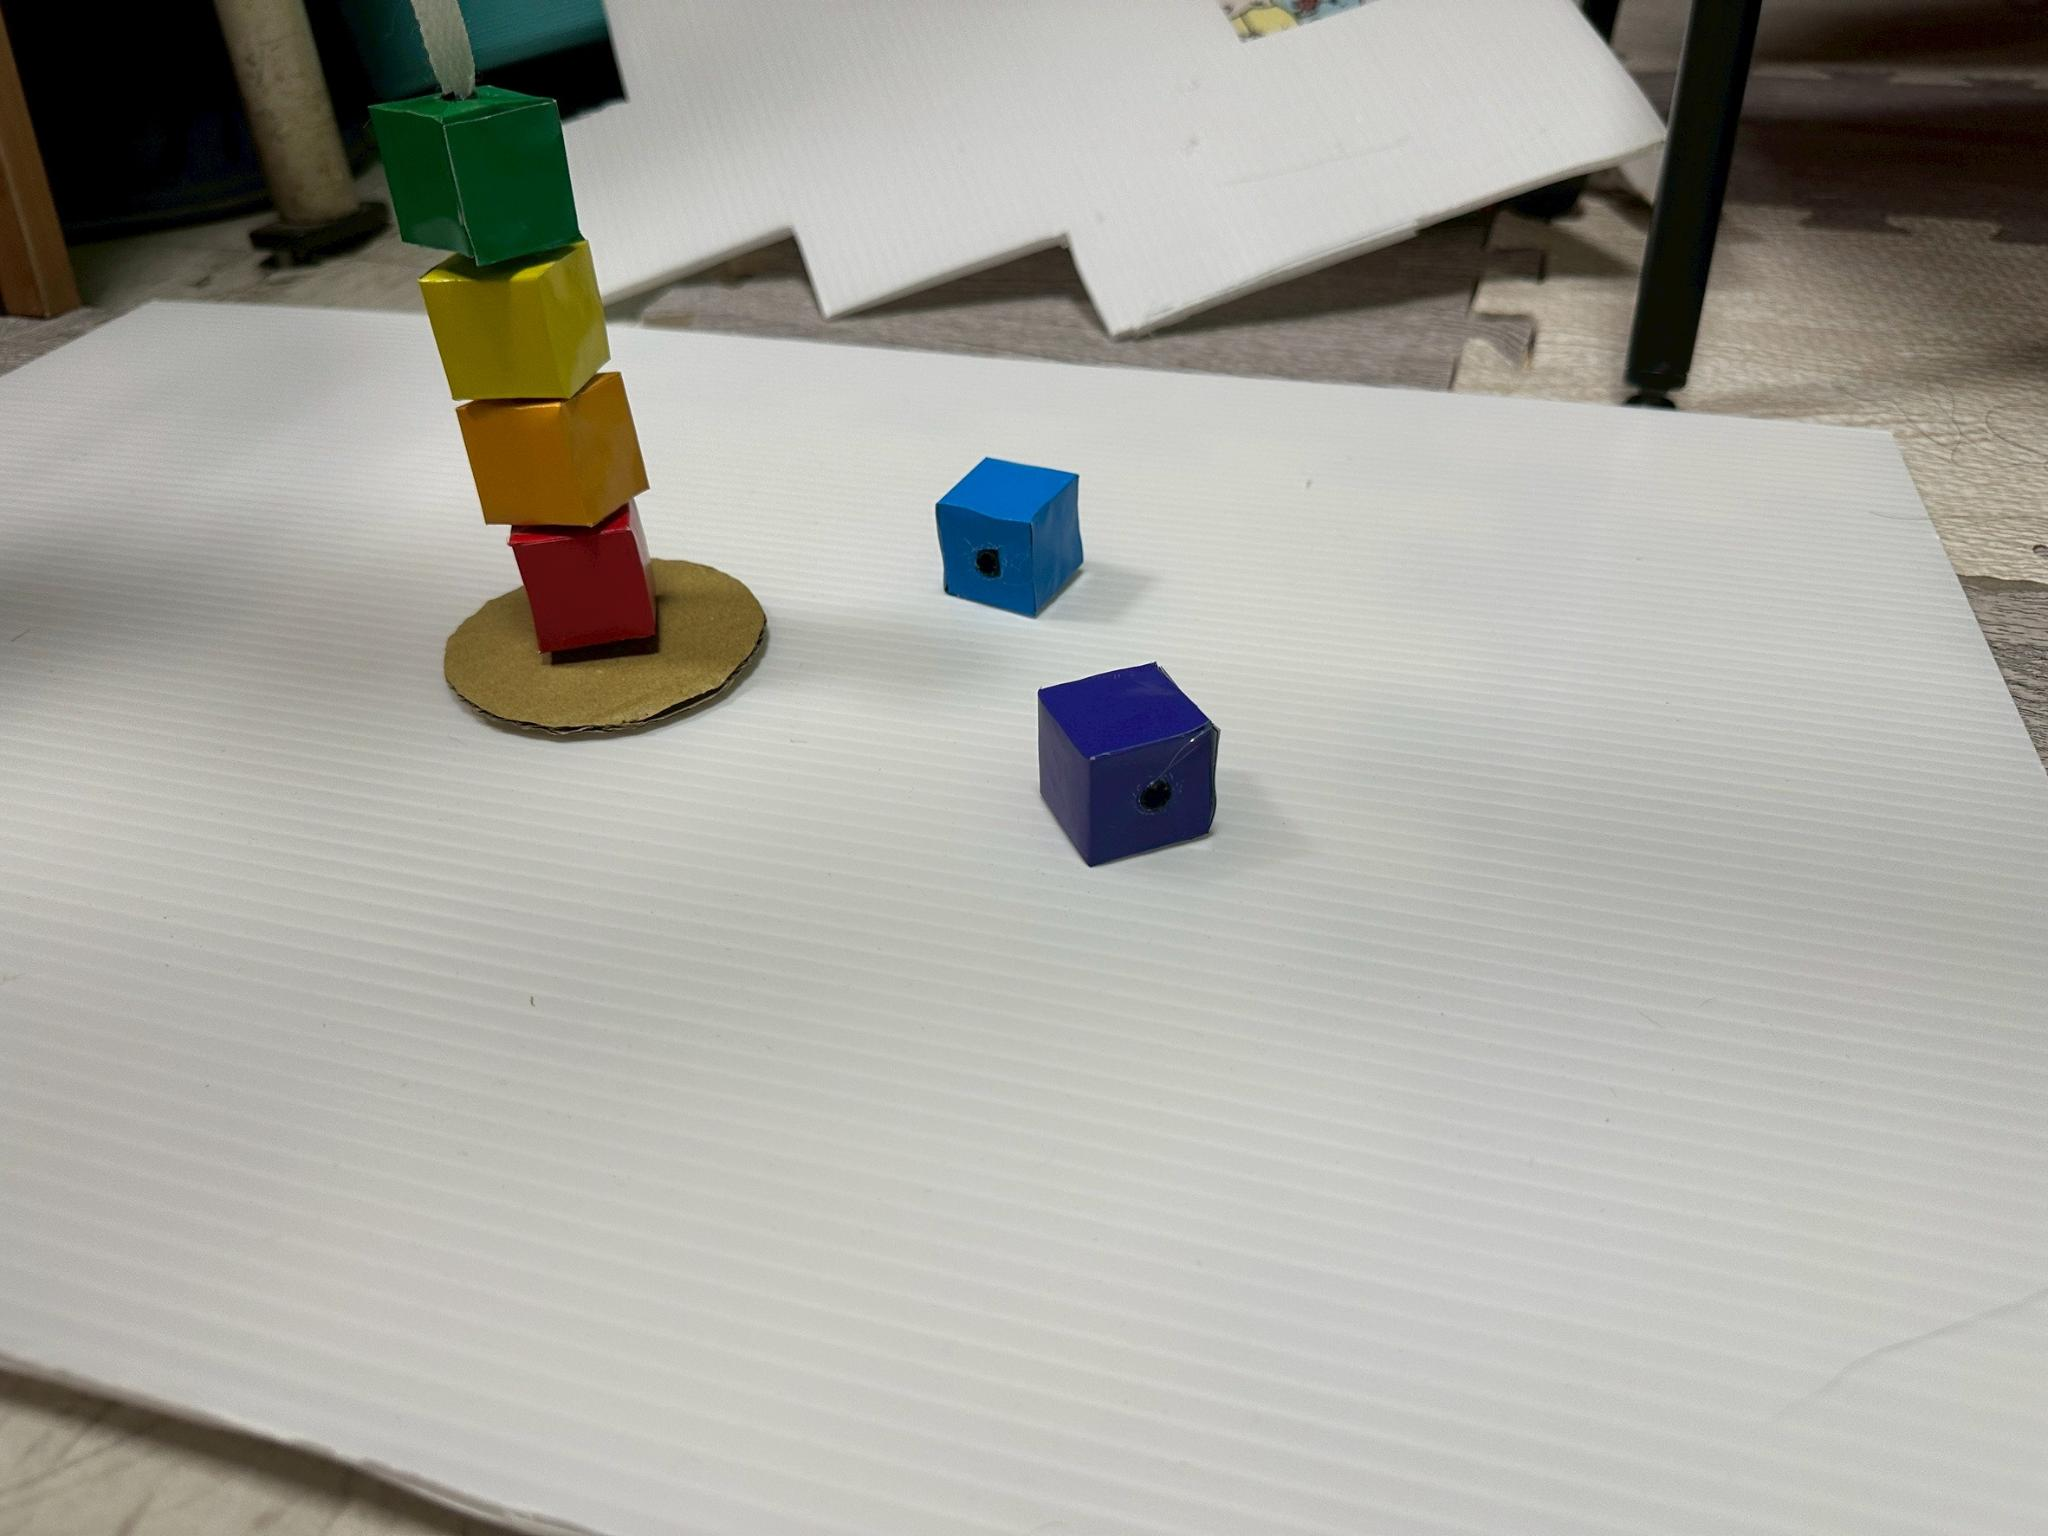base: (443, 558, 766, 731)
cube: (371, 86, 581, 265), (1039, 665, 1216, 866), (419, 239, 608, 400), (458, 373, 647, 526), (935, 458, 1084, 616), (508, 505, 656, 653)
